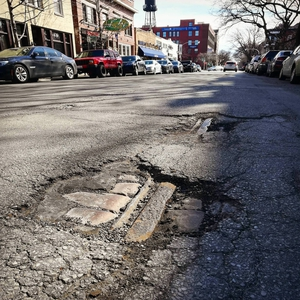pothole: (24, 155, 229, 250), (178, 114, 241, 140)
